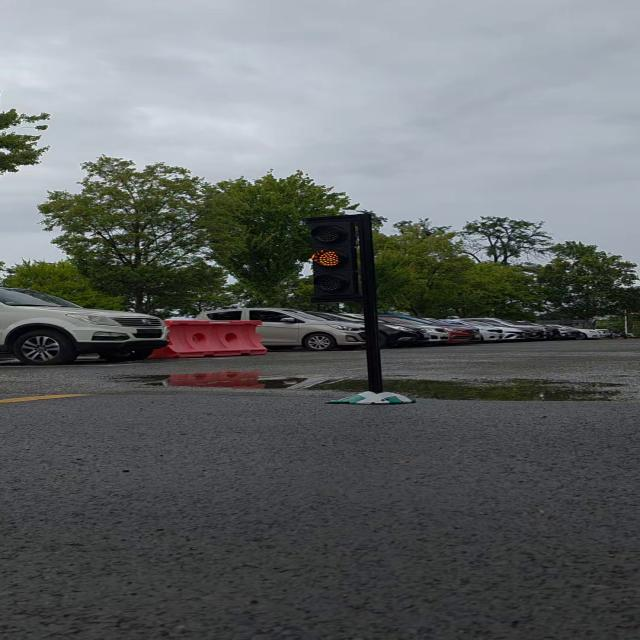yellow: (305, 214, 375, 304)
